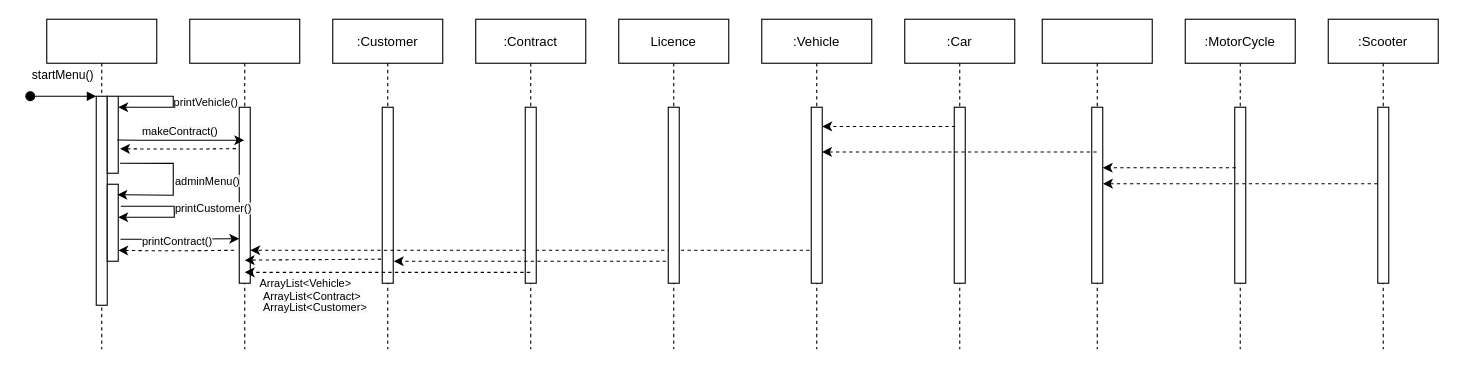
The diagram is 1458 pixels wide and 369 high, and some of its shapes have lost their labels. The box of each missing label's shape, as (x1, y1, x2, y2) in pixels:
:IO: (46, 18, 157, 349)
:Manager: (189, 18, 300, 349)
TwoSeat: (1041, 18, 1152, 349)
